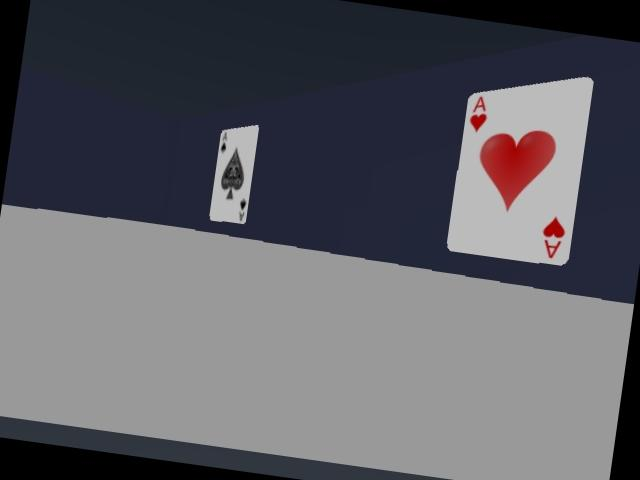club: (209, 126, 258, 223)
heart: (447, 77, 593, 265)
